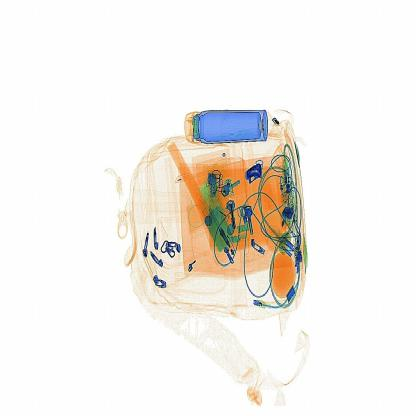knife: (243, 159, 266, 185)
